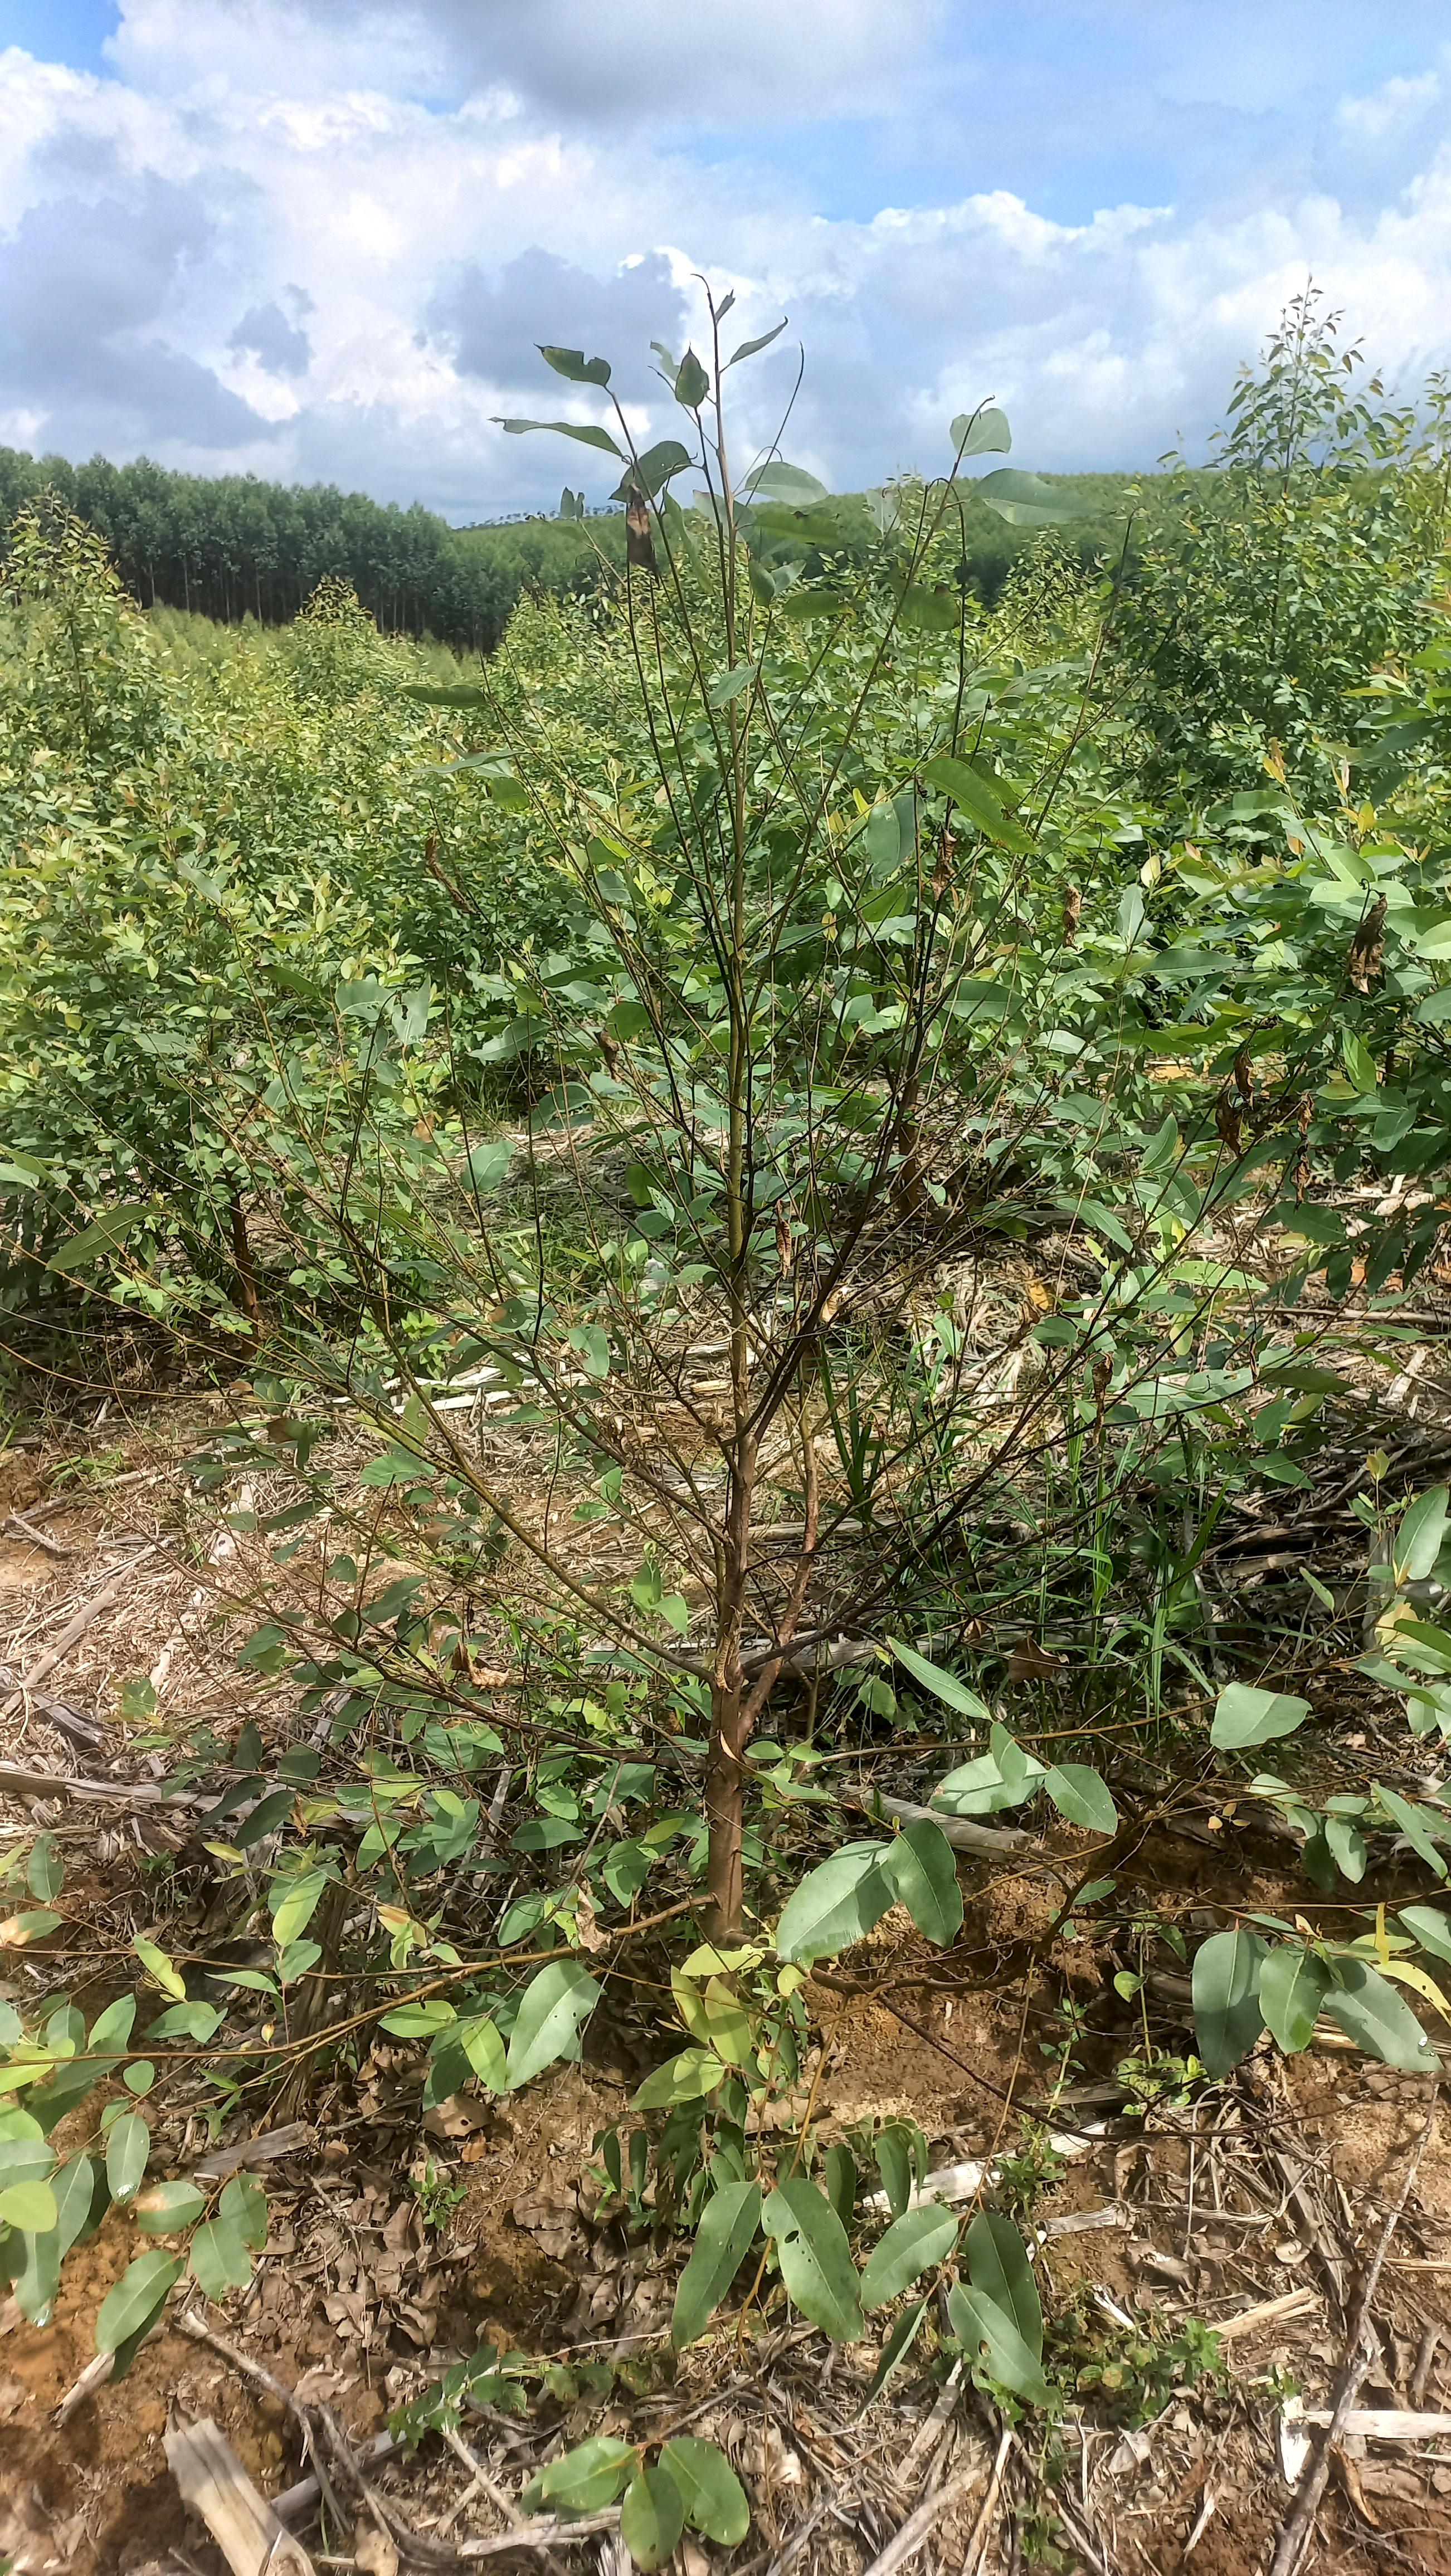Helopeltis-Withered Sprout: (1340, 890, 1391, 1000), (423, 833, 481, 925), (1223, 1035, 1262, 1152), (1085, 1341, 1120, 1460), (618, 1412, 669, 1484), (922, 830, 961, 899), (587, 1030, 630, 1088), (860, 1407, 904, 1456), (708, 1403, 749, 1451), (1051, 881, 1086, 936), (775, 1214, 802, 1277)
